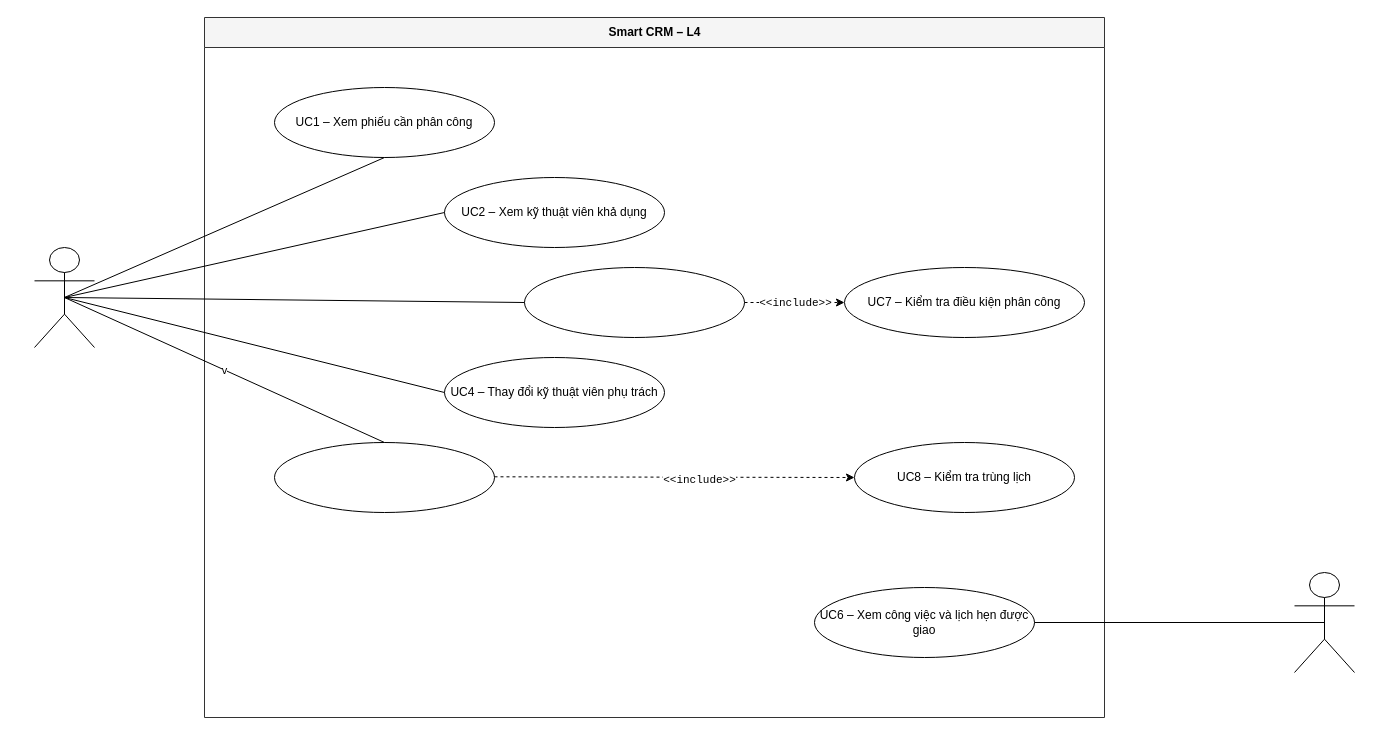
Some shapes in this 1376 by 735 pixel diagram are drawn without their labels. The centre of each missing label's shape, as x and y in pixels:
"Kỹ thuật viên" belongs at (x=1324, y=622).
"Quản lý trung tâm" belongs at (x=64, y=297).
"UC3 – Phân công kỹ thuật viên" belongs at (x=634, y=302).
"UC5 – Đặt lịch giao – nhận máy" belongs at (x=384, y=477).
